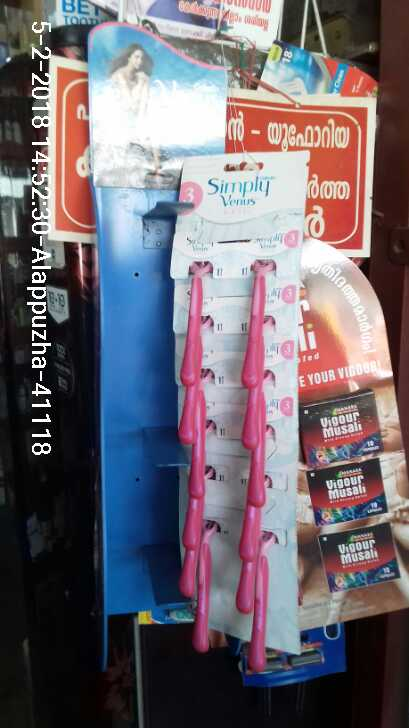reject: (173, 275, 272, 393)
